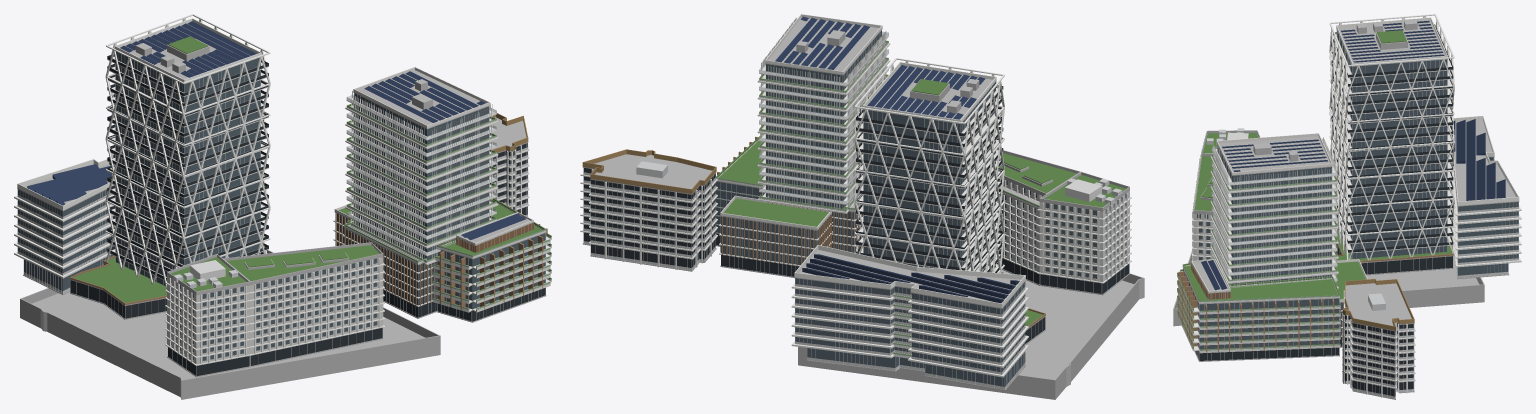
The model's file is scheme.glb.
3 views of the same model, side by side, from view 1: azimuth 30°, elevation 25°; view 2: azimuth 150°, elevation 25°; view 3: azimuth 270°, elevation 25° (orthographic). The views are drawn at different scales.
Visible parts, largest first — view 1: U-B2 slab, A diagrid face 1, A diagrid face 2, A diagrid ring beams, A PV array, U-B2 ext wall 5, U-B1 ext wall 5, B PV array, A0 green roof, D sawtooth roof, C2 green roof, B roof slab (+105 smaller); view 2: U-B2 slab, A diagrid face 1, A diagrid face 4, D sawtooth roof, A diagrid ring beams, A PV array, D parapet, E roof slab, B PV array, D-GF curtain wall, D roof slab, B roof slab (+75 smaller); view 3: A diagrid face 3, A diagrid face 2, A diagrid ring beams, D sawtooth roof, B roof slab, A roof slab, E roof slab, B2-PH terrace green, A PV array, U-B2 slab, D roof slab, B PV array (+119 smaller).
Part boxes in pixels (x1,y1,x2,y2): U-B2 slab: [20, 292, 440, 390]; A diagrid face 1: [105, 50, 183, 289]; A diagrid face 2: [183, 56, 270, 263]; A diagrid ring beams: [106, 14, 270, 267]; A PV array: [120, 21, 256, 77]; U-B2 ext wall 5: [181, 335, 440, 389]; U-B1 ext wall 5: [181, 345, 440, 398]; B PV array: [364, 71, 485, 122]; A0 green roof: [73, 257, 166, 303]; D sawtooth roof: [27, 154, 114, 205]; C2 green roof: [227, 245, 379, 281]; B roof slab: [353, 70, 490, 129]; U-B2 slab: [798, 270, 1144, 389]; A diagrid face 1: [964, 81, 1004, 273]; A diagrid face 4: [854, 109, 964, 270]; D sawtooth roof: [802, 254, 1019, 303]; A diagrid ring beams: [854, 58, 1004, 272]; A PV array: [867, 65, 985, 119]; D parapet: [794, 245, 1025, 308]; E roof slab: [582, 154, 716, 194]; B PV array: [775, 16, 869, 69]; D-GF curtain wall: [807, 348, 1025, 386]; D roof slab: [794, 250, 1025, 308]; B roof slab: [765, 17, 882, 75]; A diagrid face 3: [1347, 58, 1454, 260]; A diagrid face 2: [1329, 27, 1348, 259]; A diagrid ring beams: [1329, 14, 1454, 255]; D sawtooth roof: [1451, 119, 1505, 200]; B roof slab: [1217, 136, 1332, 175]; A roof slab: [1336, 20, 1447, 66]; E roof slab: [1343, 283, 1414, 331]; B2-PH terrace green: [1185, 265, 1337, 300]; A PV array: [1341, 20, 1444, 62]; U-B2 slab: [1173, 255, 1484, 317]; D roof slab: [1453, 120, 1519, 206]; B PV array: [1222, 139, 1327, 171].
Bounding box in the file's own units: 184 × 92.35 × 126.
